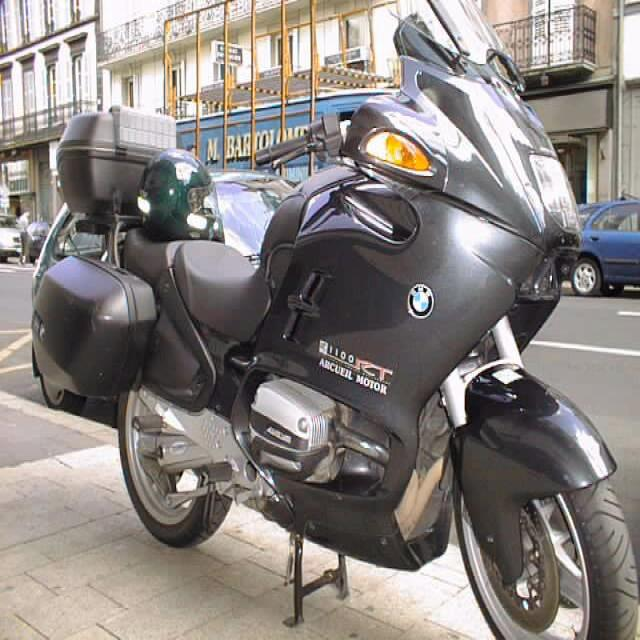motor: (27, 2, 640, 633)
